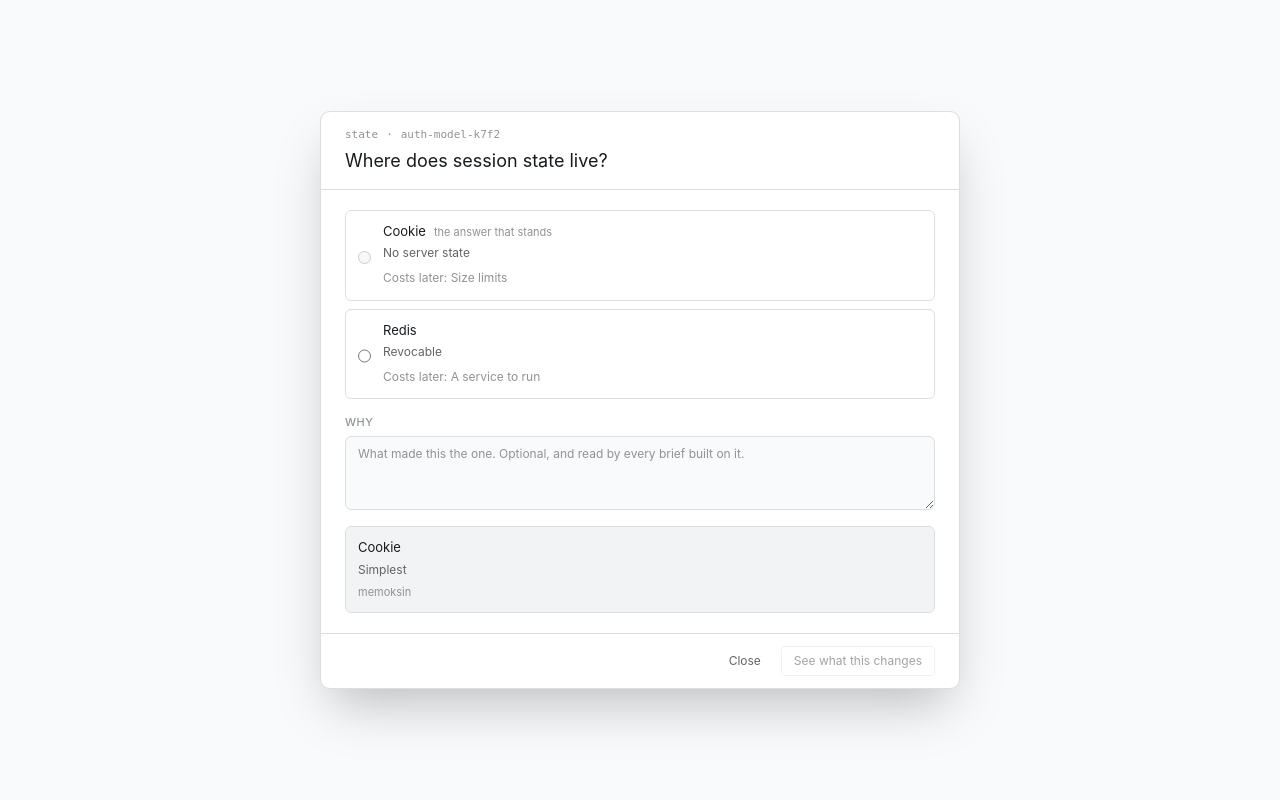
it: asking for the preview names every node it reaches, and what happens to each
Click the radio button labelled "Redis Revocable Costs later: A service to run".
click(364, 356)  # box left=358, top=326, right=371, bottom=386
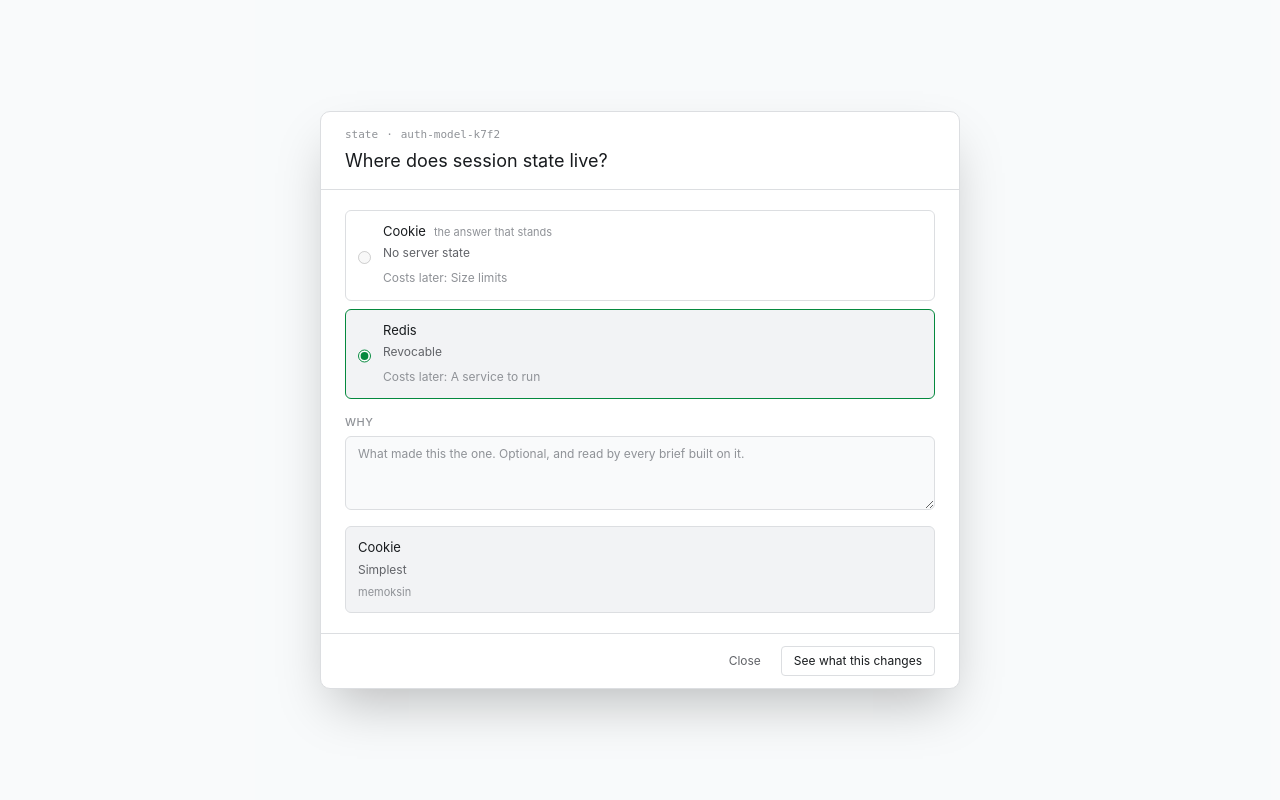
Click the button "See what this changes".
click(858, 661)  # box left=781, top=646, right=935, bottom=676
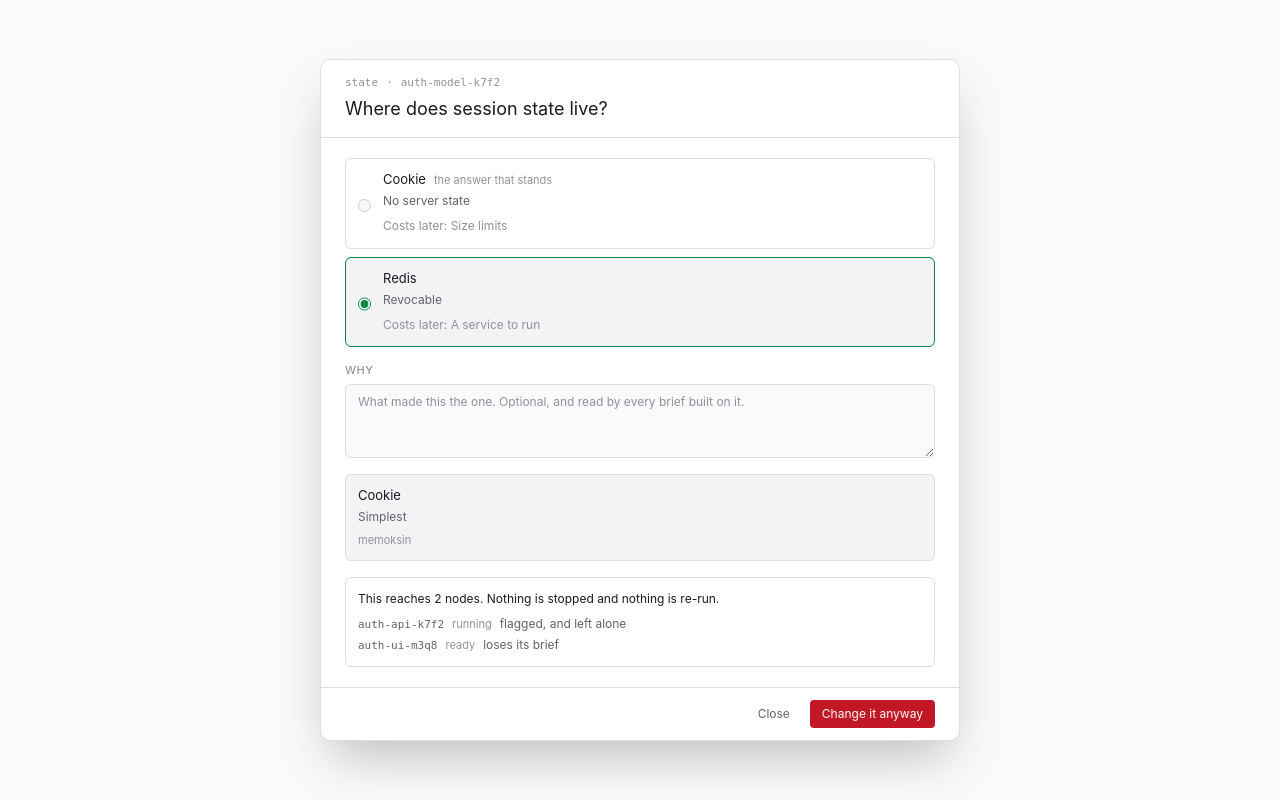
expect the text "auth-api-k7f2" is shown: met, box left=358, top=618, right=444, bottom=633
expect the text "running" is shown: met, box left=452, top=618, right=492, bottom=632
expect the text "auth-ui-m3q8" is shown: met, box left=358, top=639, right=438, bottom=654
